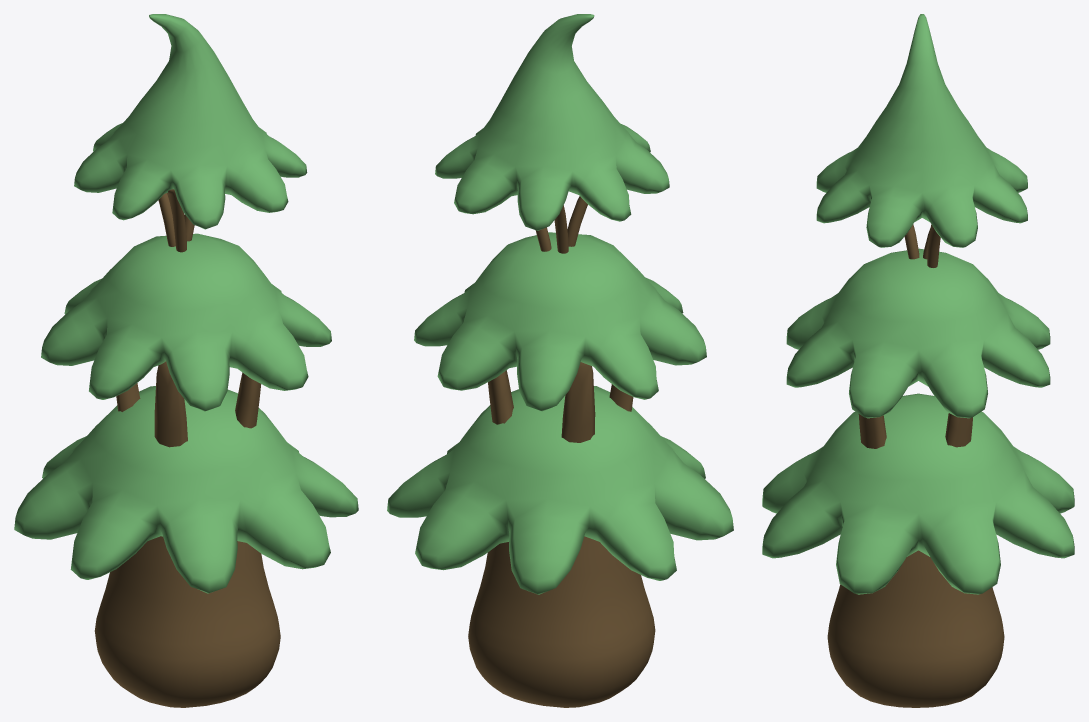
The model's file is Tree 4.fbx.
The picture shows the model from 3 angles, left to right: view 1: azimuth 30°, elevation 25°; view 2: azimuth 150°, elevation 25°; view 3: azimuth 270°, elevation 25°; orthographic projection. The views are drawn at different scales.
Visible parts, largest first — view 1: pasted__pasted__pCube8; view 2: pasted__pasted__pCube8; view 3: pasted__pasted__pCube8.
Boxes of the visible parts, <box> form: pasted__pasted__pCube8: <box>14,14,358,707</box>; pasted__pasted__pCube8: <box>387,14,733,707</box>; pasted__pasted__pCube8: <box>762,14,1074,707</box>.
Bounding box in the file's own units: 1.94 × 4.52 × 1.94.
